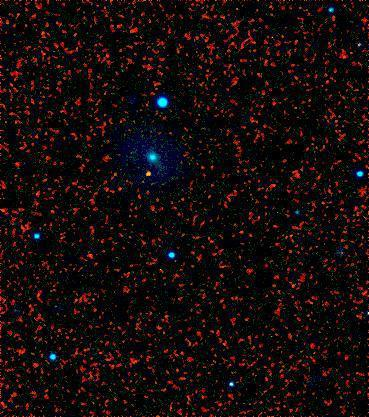star: (132, 161, 162, 191)
